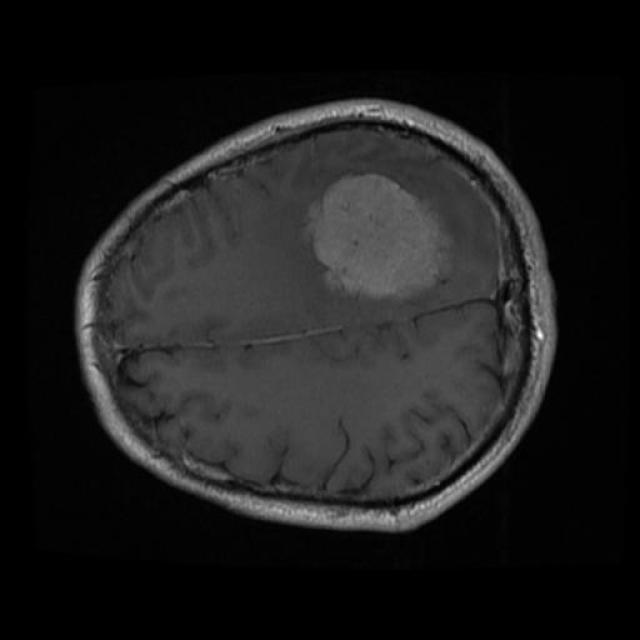Meningioma: (308, 173, 449, 299)
